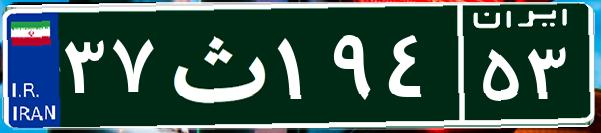1: (273, 28, 330, 110)
3: (57, 26, 110, 107), (525, 38, 570, 115)
4: (385, 28, 445, 110)
5: (475, 38, 525, 113)
7: (110, 28, 158, 105)
9: (330, 28, 385, 110)
ث: (158, 15, 273, 115)
